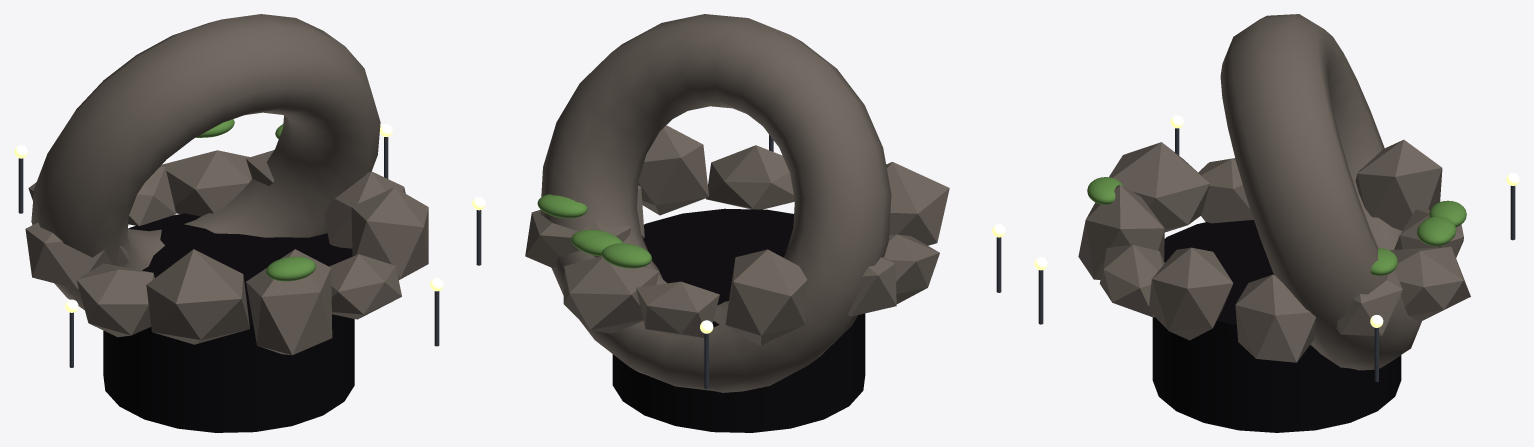
The model's file is poi_cave.glb.
3 views of the same model, side by side, from view 1: azimuth 30°, elevation 25°; view 2: azimuth 150°, elevation 25°; view 3: azimuth 270°, elevation 25° (orthographic). The views are drawn at different scales.
Parts seen in each view (by area): view 1: Arch, Shaft, Rock7, Hole, Rock8, Rock10, Rock6, Rock2, Rock9, Rock5, Rock0, Rock3 (+2 smaller); view 2: Arch, Shaft, Hole, Rock4, Rock2, Rock10, Rock9, Rock7, Rock3, Rock6, Rock1, Rock5 (+3 smaller); view 3: Arch, Shaft, Rock10, Rock4, Rock0, Rock7, Hole, Rock8, Rock2, Rock9, Rock6, Rock1 (+5 smaller).
Boxes of the visible parts, <box> form: Arch: <box>31,14,380,310</box>; Shaft: <box>103,316,354,432</box>; Rock7: <box>146,249,249,344</box>; Hole: <box>128,213,352,339</box>; Rock8: <box>246,249,332,355</box>; Rock10: <box>351,187,428,279</box>; Rock6: <box>76,263,154,337</box>; Rock2: <box>160,150,251,216</box>; Rock9: <box>329,254,401,319</box>; Rock5: <box>25,222,129,288</box>; Rock0: <box>324,171,405,248</box>; Rock3: <box>128,167,175,226</box>; Arch: <box>540,14,891,392</box>; Shaft: <box>612,313,865,432</box>; Hole: <box>643,208,793,327</box>; Rock4: <box>725,249,807,345</box>; Rock2: <box>563,256,659,333</box>; Rock10: <box>638,125,708,215</box>; Rock9: <box>706,145,794,209</box>; Rock7: <box>886,162,949,245</box>; Rock3: <box>636,281,719,338</box>; Rock6: <box>884,234,939,307</box>; Rock1: <box>525,209,631,268</box>; Rock5: <box>848,257,896,316</box>; Arch: <box>1220,14,1421,370</box>; Shaft: <box>1152,317,1401,432</box>; Rock10: <box>1148,247,1233,340</box>; Rock4: <box>1355,139,1442,230</box>; Rock0: <box>1235,274,1316,362</box>; Rock7: <box>1109,142,1209,232</box>; Hole: <box>1163,220,1273,338</box>; Rock8: <box>1078,185,1164,279</box>; Rock2: <box>1390,246,1470,320</box>; Rock9: <box>1099,244,1164,317</box>; Rock6: <box>1198,158,1253,223</box>; Rock1: <box>1336,270,1402,336</box>.
Size of the model in its own units: 12.88 by 10.22 by 12.88.
